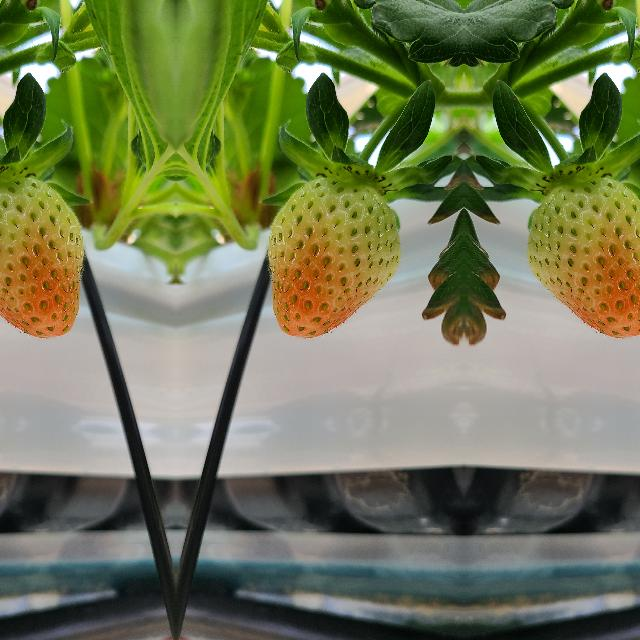Health_50: (264, 176, 401, 340), (525, 176, 640, 339), (0, 176, 86, 339)
